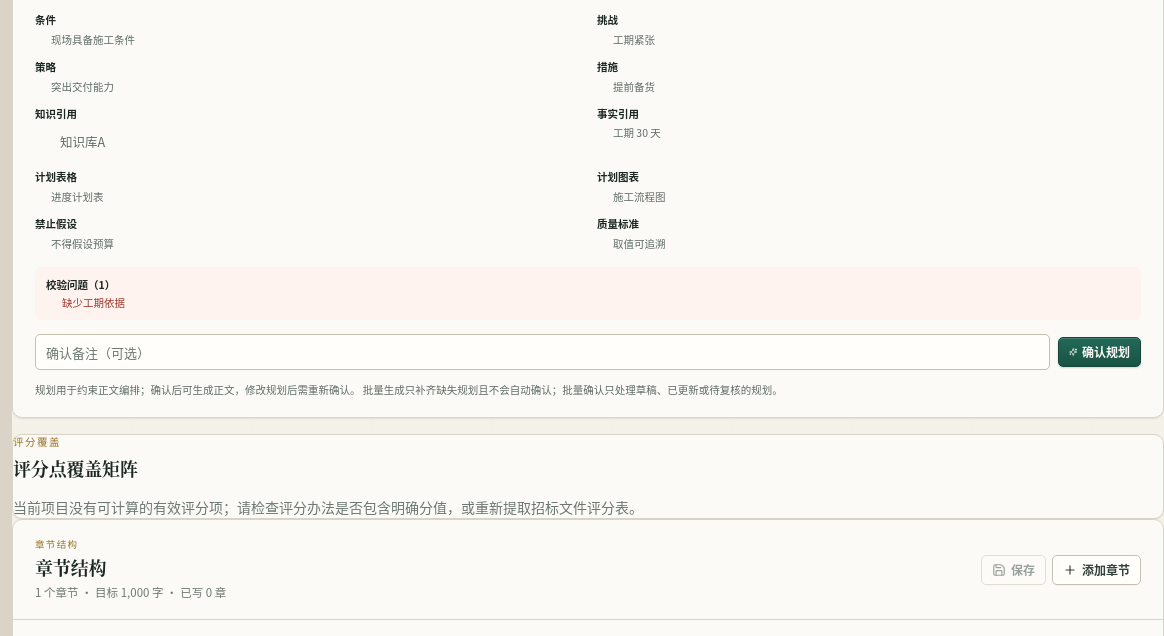
Test: OutlineTab chapter planning panel › confirms the plan and respects reviewer permission
(page scrolled)
Click the button "确认规划". click: (1099, 352)
box: [1058,337,1141,367]
(page scrolled)
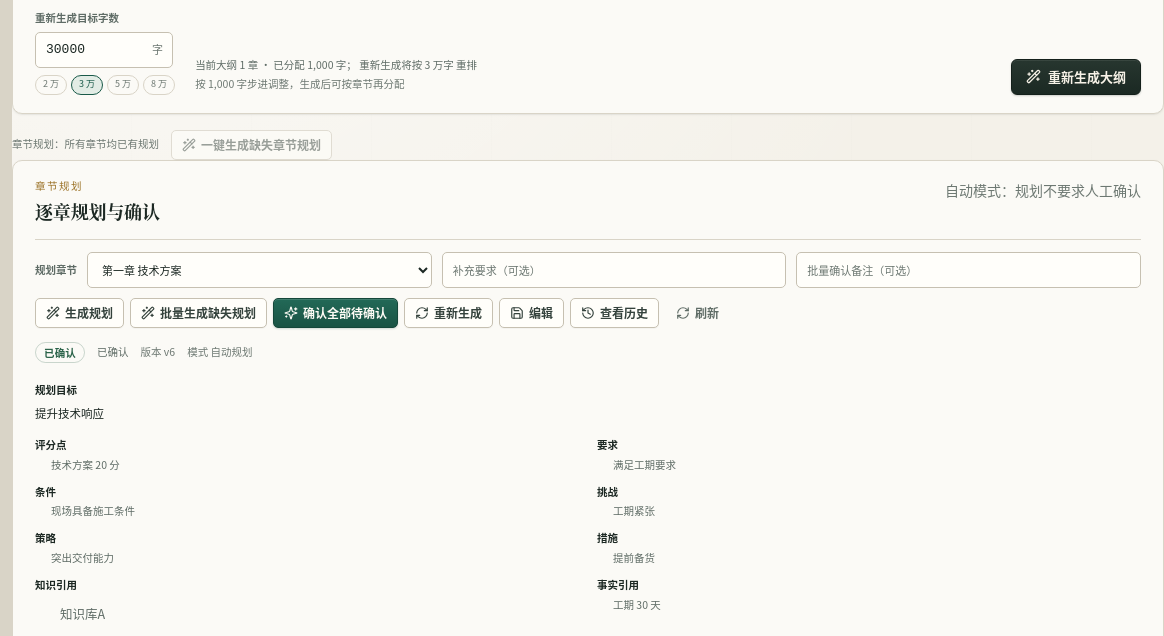
Expected: the 1st text "已确认" is shown, [35,342,85,363]
